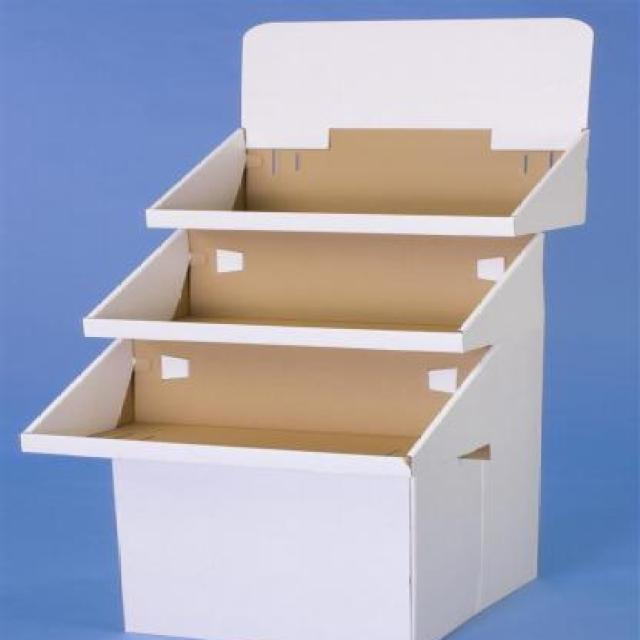box: (9, 14, 621, 640)
